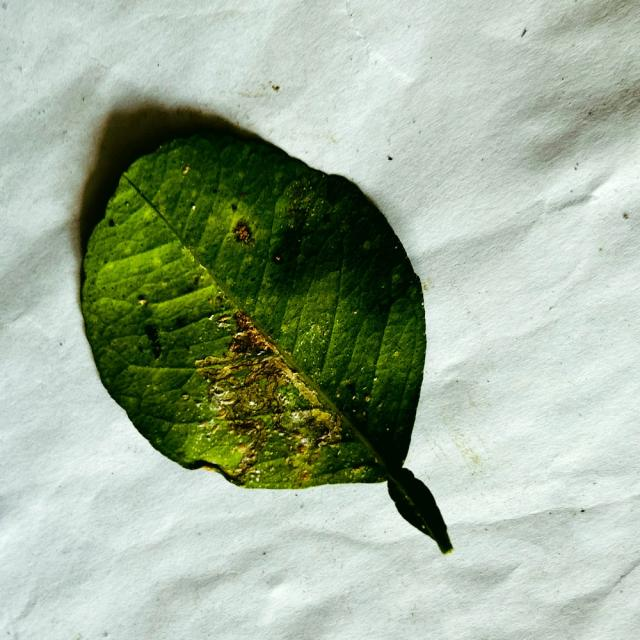Bacterial_Blight: (197, 348, 337, 477), (214, 361, 290, 413), (288, 407, 342, 449), (226, 429, 265, 479), (280, 179, 317, 225), (240, 361, 270, 412), (228, 324, 273, 358), (194, 355, 232, 373), (211, 380, 241, 402), (227, 418, 261, 437), (233, 311, 253, 331), (316, 430, 338, 447), (234, 225, 251, 243), (211, 294, 227, 308), (217, 407, 230, 420)
Lemon: (78, 105, 452, 556)
